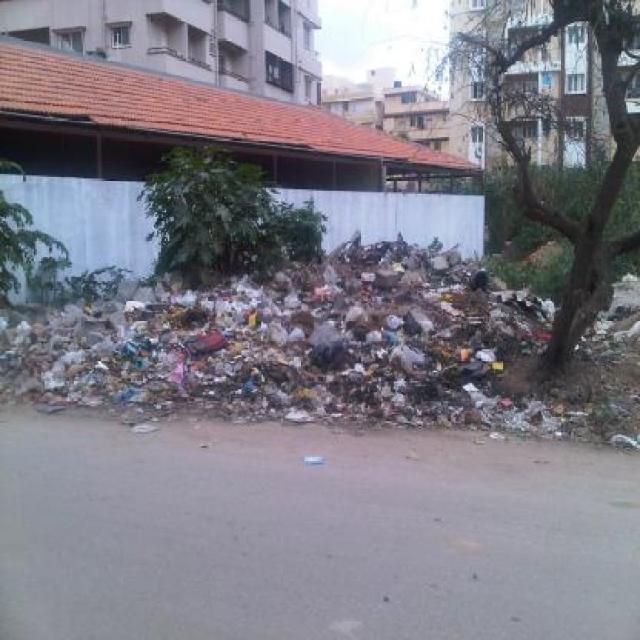garbage: (5, 271, 640, 424), (334, 231, 489, 272), (301, 453, 326, 466)
